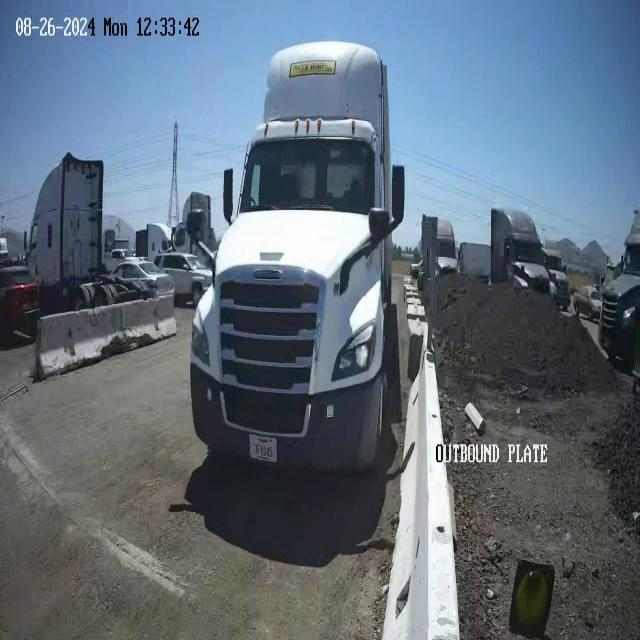TRUCK_OUT: (189, 39, 405, 477)
